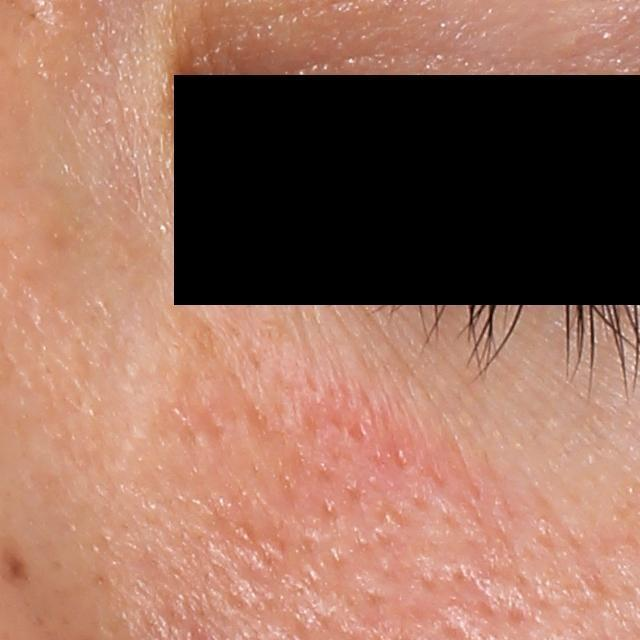nevus: (2, 554, 29, 585)
